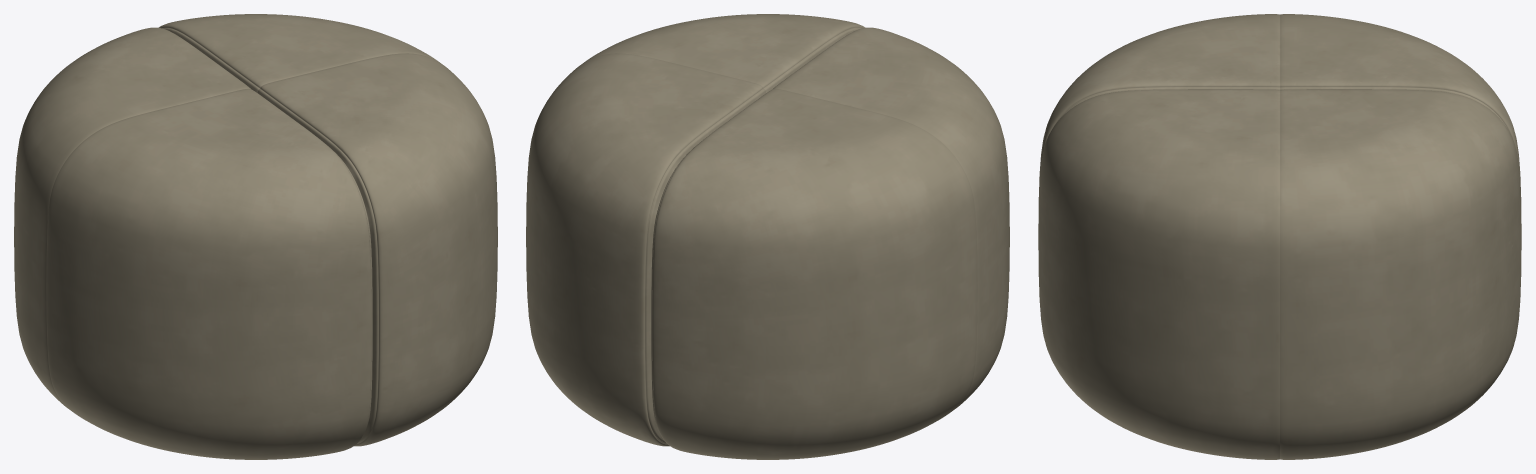
The model's file is little_sofa.glb.
The picture shows the model from 3 angles, left to right: view 1: azimuth 30°, elevation 25°; view 2: azimuth 150°, elevation 25°; view 3: azimuth 270°, elevation 25°; orthographic projection.
Parts seen in each view (by area): view 1: SM_Ottoman; view 2: SM_Ottoman; view 3: SM_Ottoman.
Part boxes in pixels (x1,y1,x2,y2): SM_Ottoman: (14, 14, 497, 459); SM_Ottoman: (526, 14, 1009, 459); SM_Ottoman: (1038, 14, 1521, 459).
Size of the model in its own units: 0.579 by 0.4 by 0.5769.
1 material, 1 textured.
